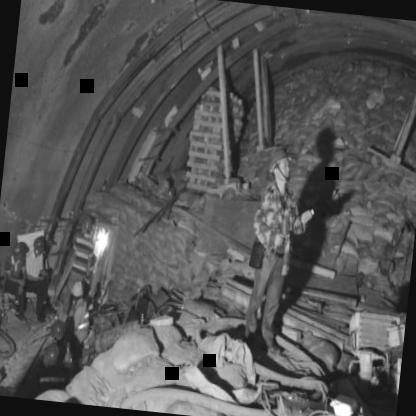helmet: (262, 139, 293, 186), (38, 341, 62, 370), (47, 314, 68, 342), (8, 238, 29, 265), (30, 232, 50, 260), (69, 276, 85, 306), (78, 212, 96, 233)
